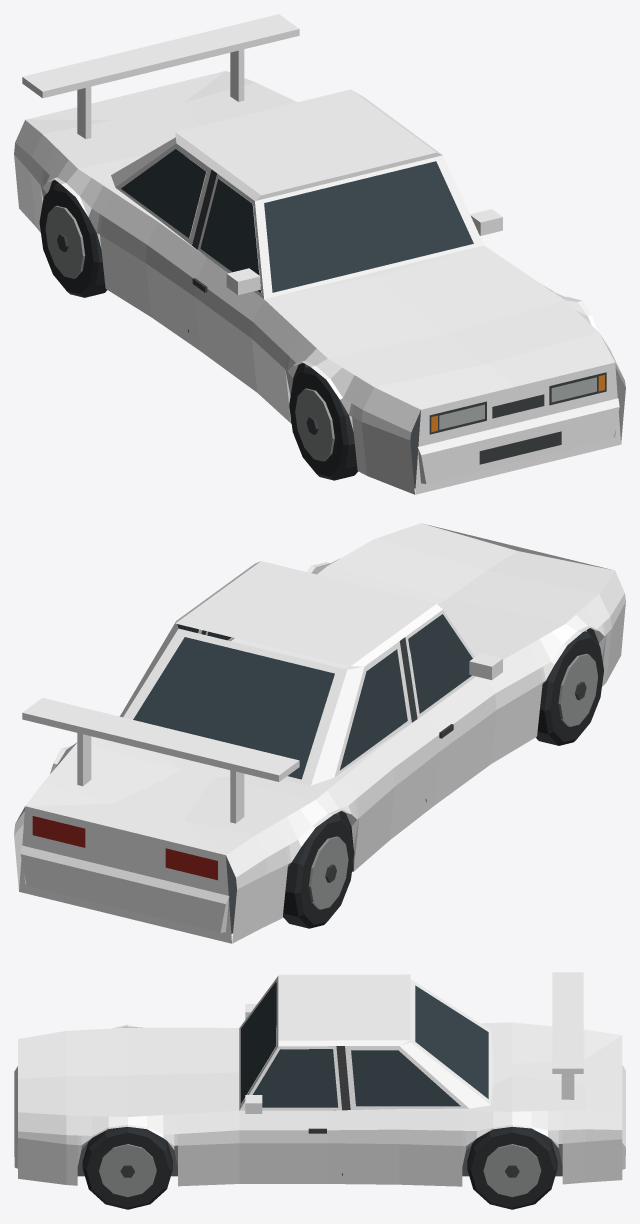
File: mizuchi_hiten_corrida.glb
3 renders of one model, top to bottom at view 1: azimuth 30°, elevation 25°; view 2: azimuth 150°, elevation 25°; view 3: azimuth 270°, elevation 25°, orthographic. The views are drawn at different scales.
Parts seen in each view (by area): view 1: mizuchi_hiten_corrida; view 2: mizuchi_hiten_corrida; view 3: mizuchi_hiten_corrida.
Part boxes in pixels (box(x1,y1,x2,y2)): mizuchi_hiten_corrida: box(14, 14, 625, 494); mizuchi_hiten_corrida: box(14, 523, 625, 943); mizuchi_hiten_corrida: box(14, 972, 625, 1209).
Size of the model in its own units: 1.69 by 1.19 by 4.28.
Materials: 8 (1 with a texture image).
